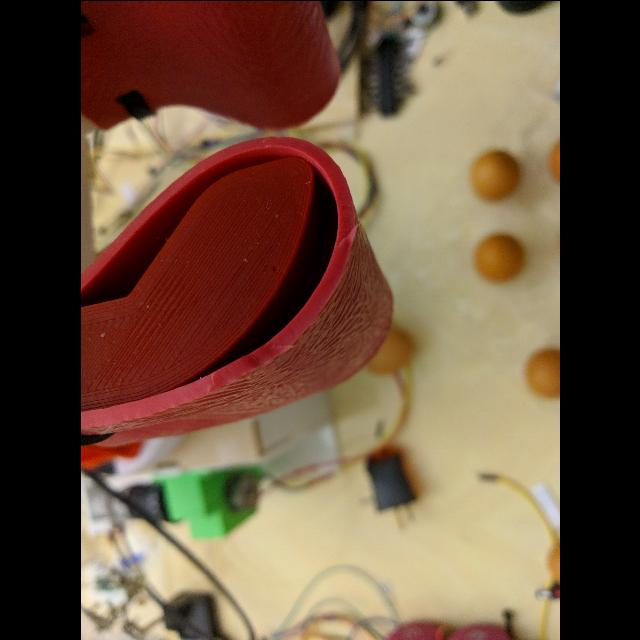Egg: (470, 228, 536, 288), (363, 322, 425, 378), (466, 144, 524, 202), (518, 344, 560, 404), (544, 133, 560, 187)
